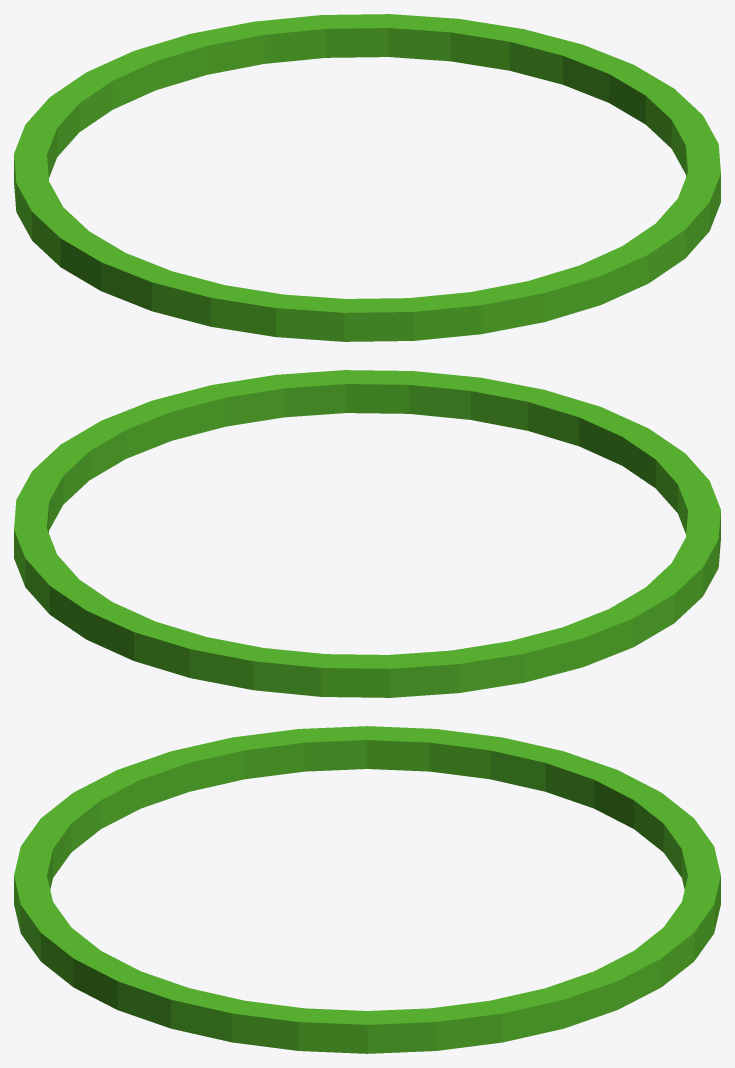
Rendered from Selection.glb.
3 renders of one model, top to bottom at view 1: azimuth 30°, elevation 25°; view 2: azimuth 150°, elevation 25°; view 3: azimuth 270°, elevation 25°, orthographic.
Parts seen in each view (by area): view 1: Circle; view 2: Circle; view 3: Circle.
Boxes of the visible parts, left/top/right/bottom form: Circle: left=14, top=14, right=720, bottom=341; Circle: left=14, top=370, right=720, bottom=697; Circle: left=14, top=726, right=720, bottom=1053.
Size of the model in its own units: 2 by 0.0904 by 2.
